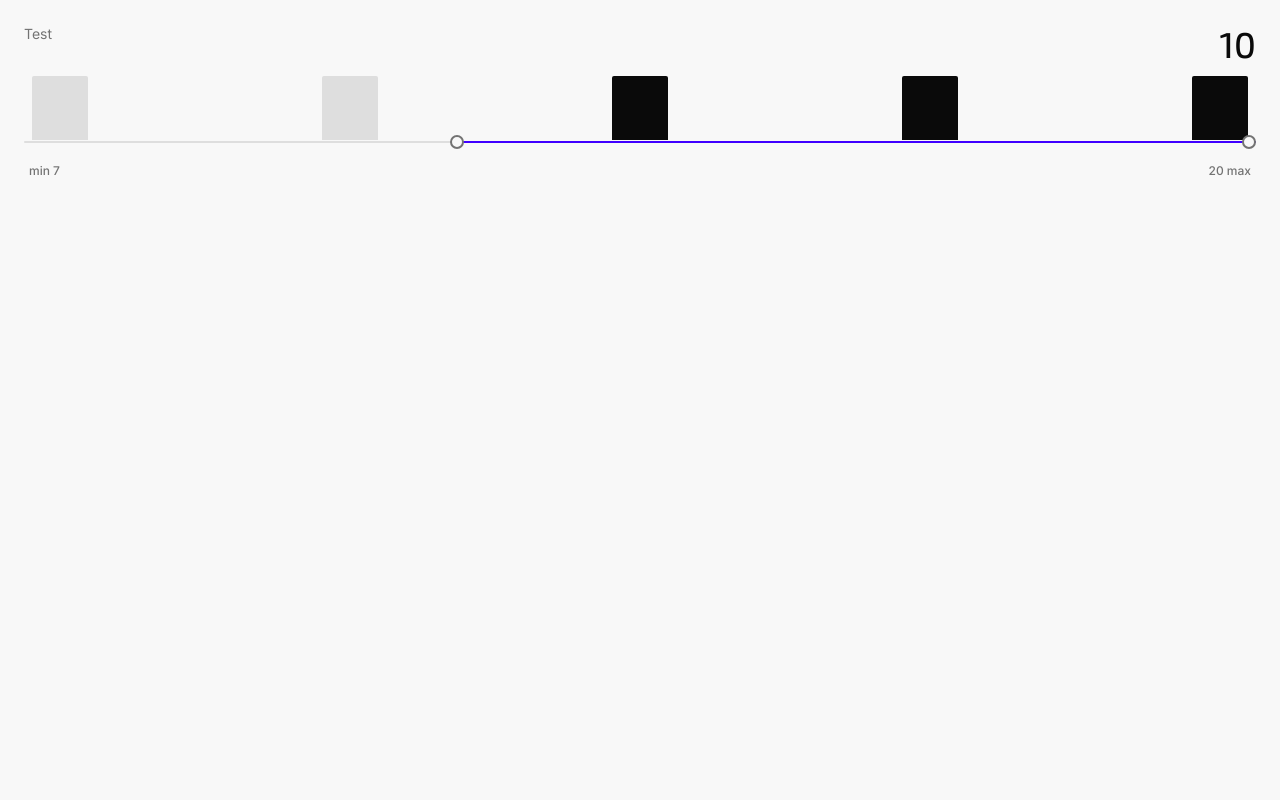
Scenario: RangeInput › popover open/close › pre-fills input with current value on open
Click the button "min 7": (44, 171) [24,160,65,182]
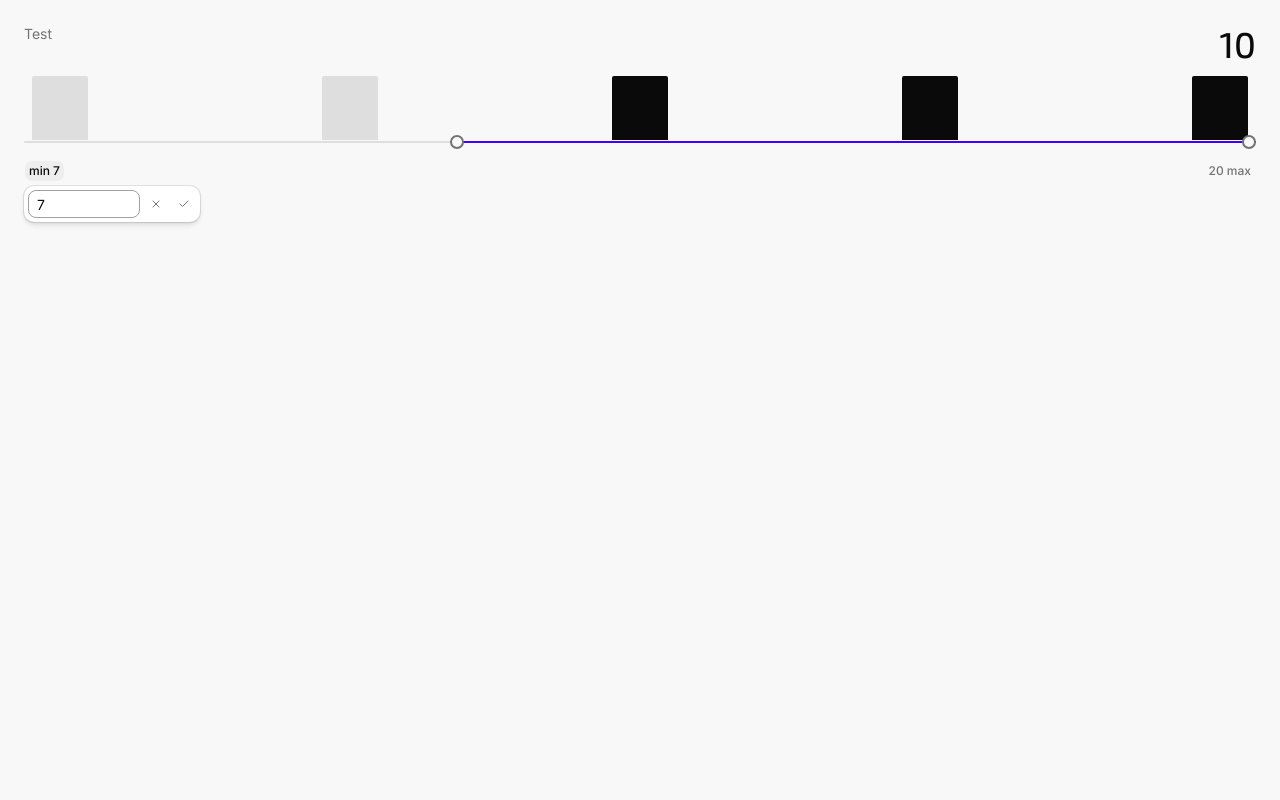
Check: the number field holds "7", box [28,190,140,218]
